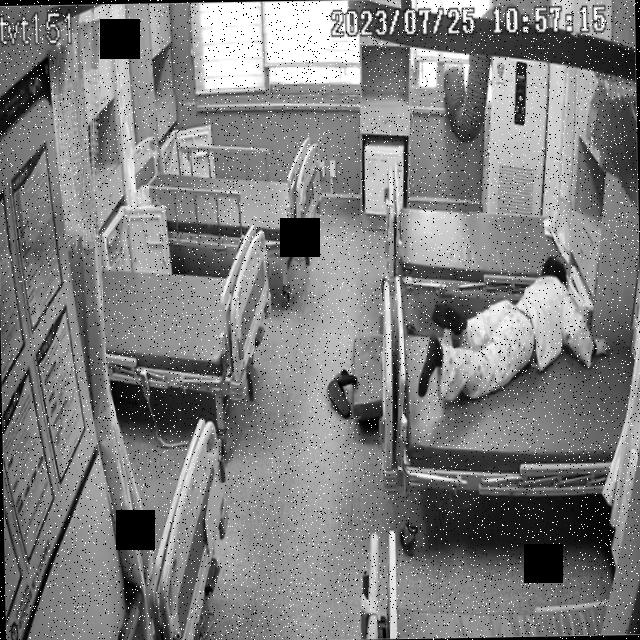bed: (376, 270, 632, 498), (384, 149, 572, 309), (105, 228, 272, 397), (150, 142, 320, 260)
danger: (416, 254, 608, 417)
patient: (416, 252, 610, 422)
